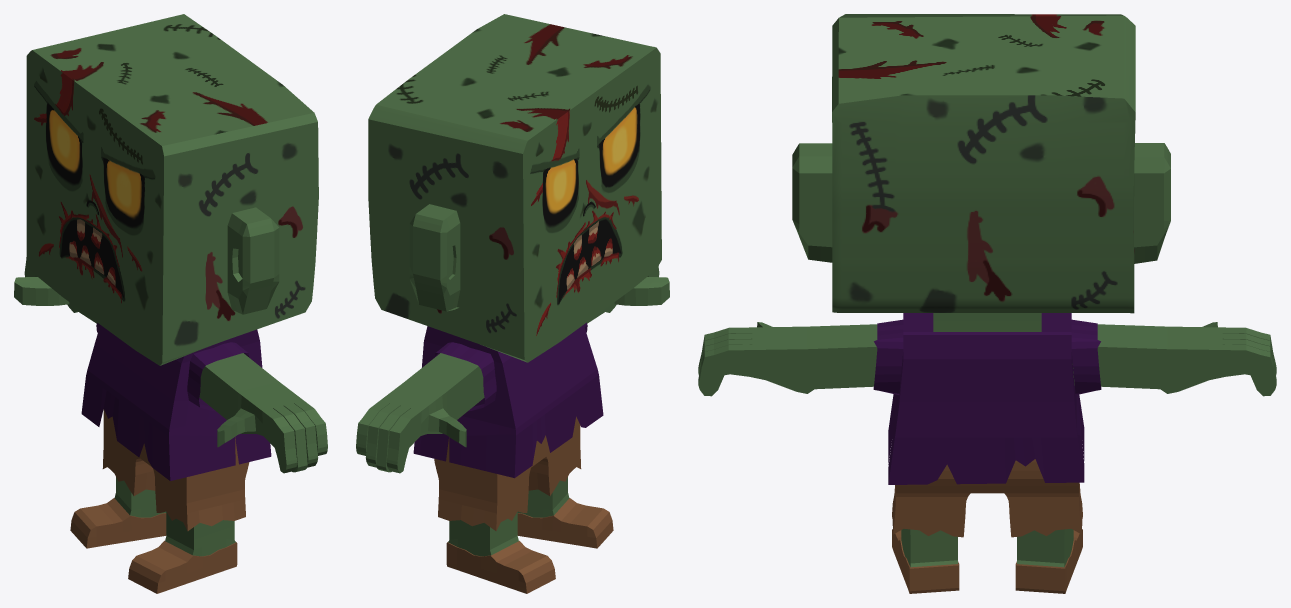
Rendered from zombie_1.fbx.
3 views of the same model, side by side, from view 1: azimuth 30°, elevation 25°; view 2: azimuth 150°, elevation 25°; view 3: azimuth 270°, elevation 25° (orthographic). The views are drawn at different scales.
Parts seen in each view (by area): view 1: zombie; view 2: zombie; view 3: zombie.
Boxes of the visible parts, box(x1,y1,x2,y2) form: zombie: box(14, 14, 327, 593); zombie: box(356, 14, 669, 593); zombie: box(698, 14, 1276, 593).
Size of the model in its own units: 425 by 1223 by 1226.
